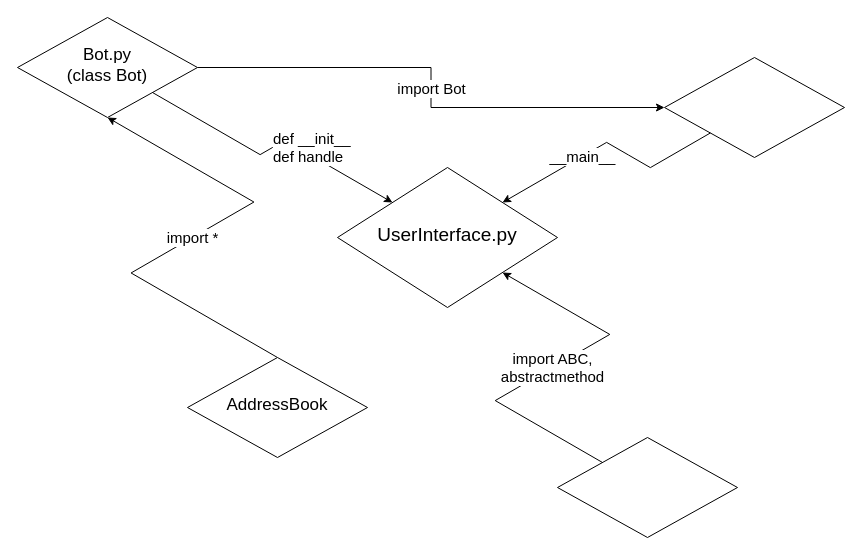
Image size: 862x555. Some labels were removed from this diagram. The centre of each missing label's shape, as x and y in pixels:
"__main__.py" belongs at point 754,107.
"info.py" belongs at point 647,487.
